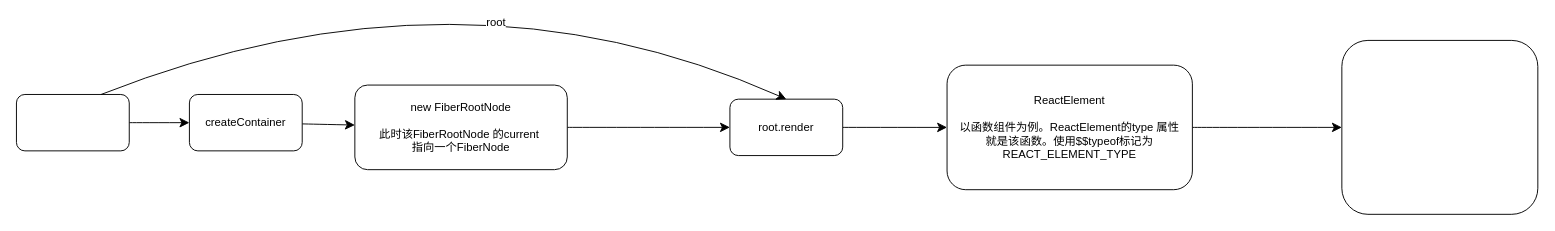
The diagram is 1555 pixels wide and 231 high, and some of its shapes have lost their labels. Here are the shapes that lost their labels. From the top down, the centre of each, then its label:
pixel 72 122: createRoot
pixel 1439 126: initEvent 初始化事件系统
